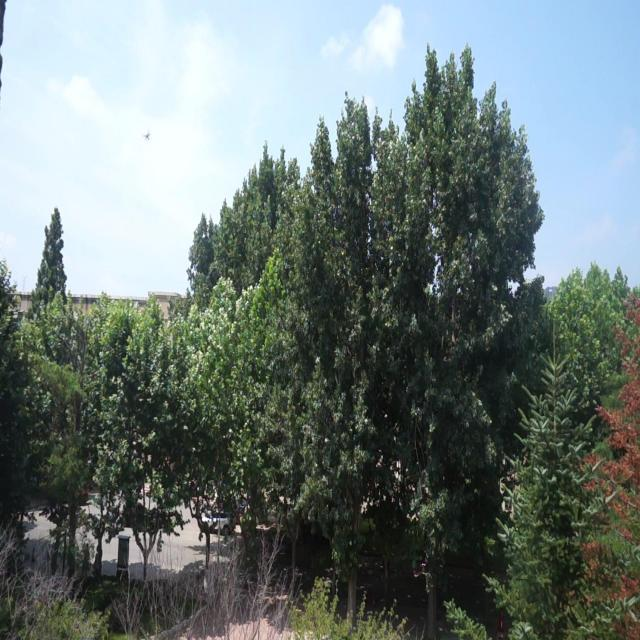UAV: (142, 130, 150, 140)
